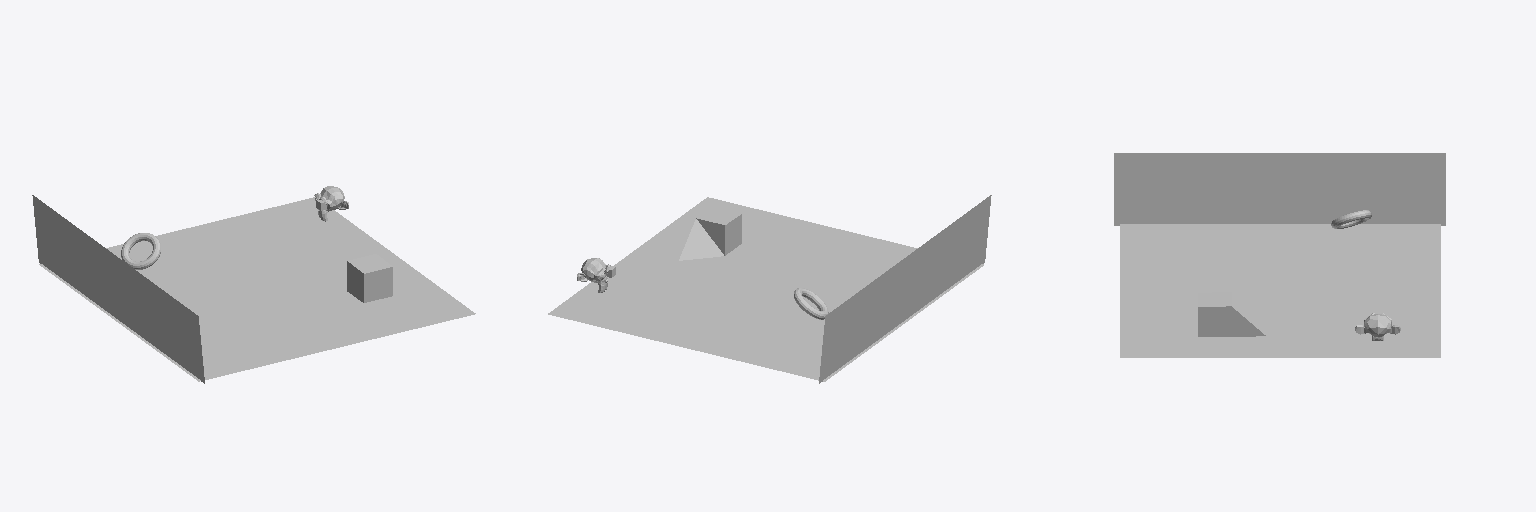
The picture shows the model from 3 angles: view 1: azimuth 30°, elevation 25°; view 2: azimuth 150°, elevation 25°; view 3: azimuth 270°, elevation 25°; orthographic projection.
Visible parts, largest first — view 1: Suzanne; view 2: Suzanne; view 3: Suzanne.
Boxes of the visible parts, x1=… form: Suzanne: x1=32, y1=186, x2=475, y2=383; Suzanne: x1=548, y1=195, x2=991, y2=383; Suzanne: x1=1114, y1=153, x2=1445, y2=357.
Size of the model in its own units: 19.23 by 4.57 by 19.72.